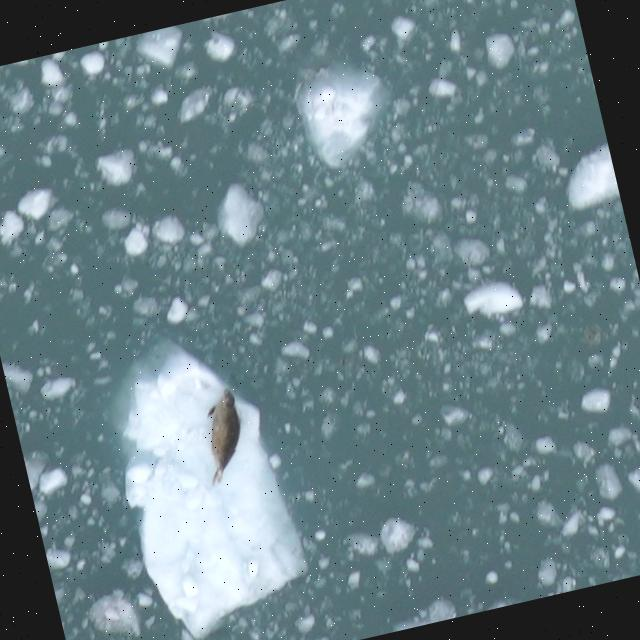seal: (187, 380, 258, 490)
